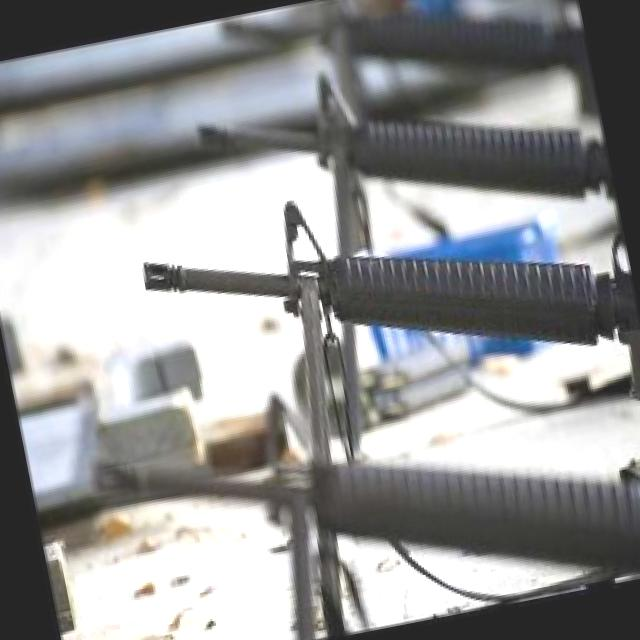long weapon: (93, 127, 639, 444), (185, 372, 639, 639)
